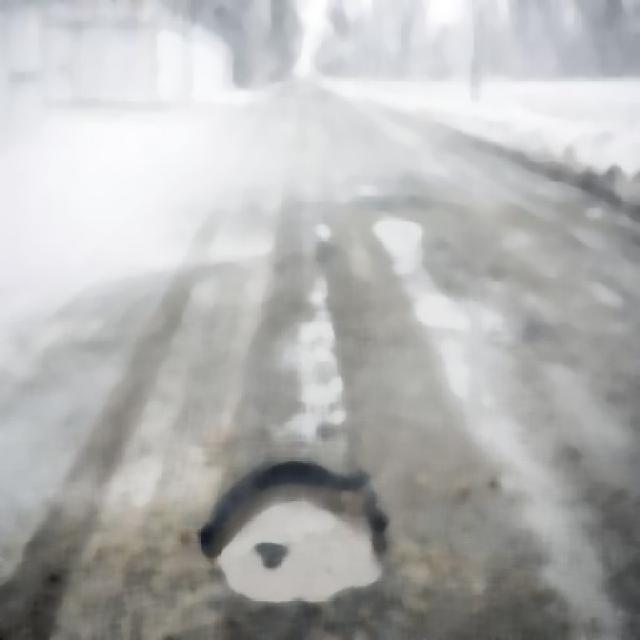Pothole: (201, 464, 384, 611)
